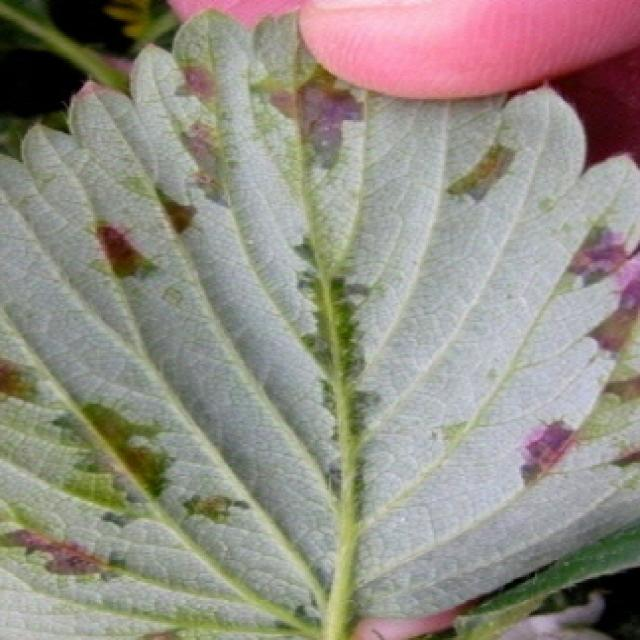Angular Leafspot: (0, 7, 640, 640)
